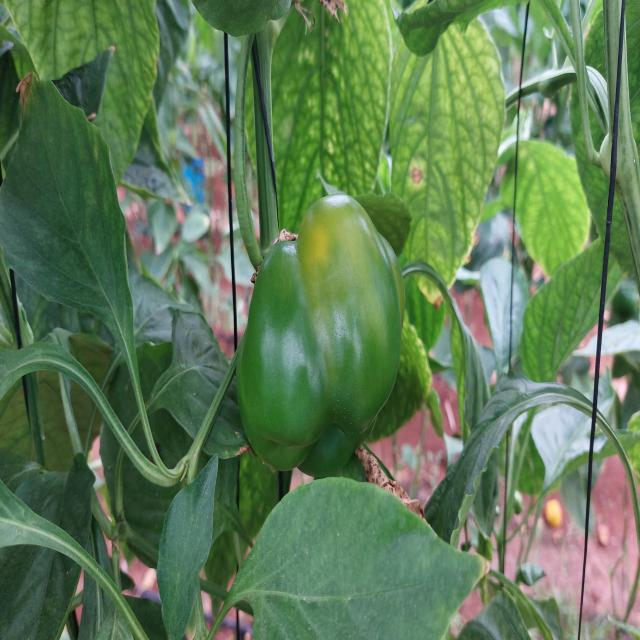Green--Not-ready-to-harvest: (236, 198, 407, 480)
